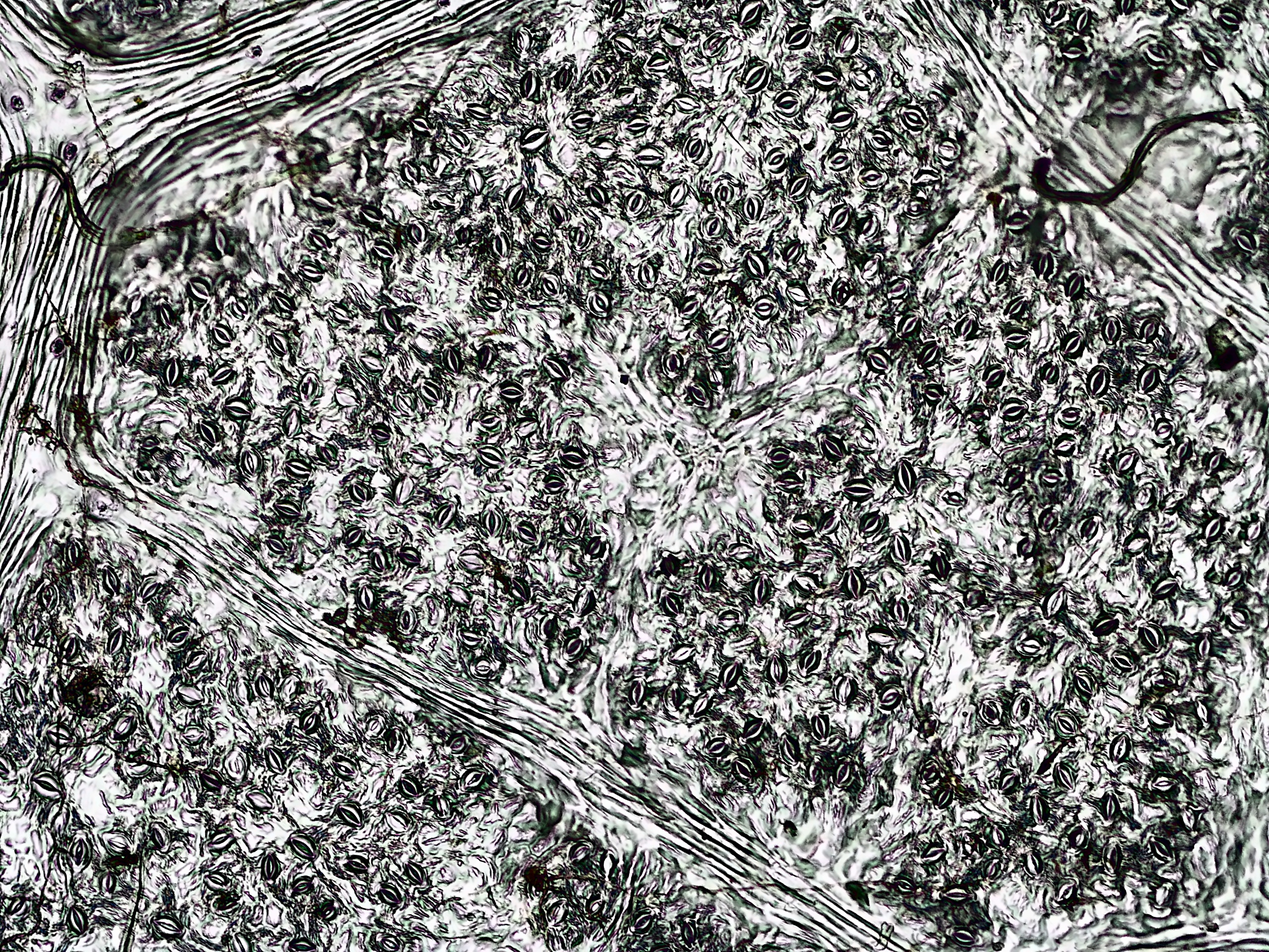stomata: (511, 121, 559, 155), (26, 575, 62, 616), (124, 0, 175, 28), (381, 470, 419, 506), (899, 100, 937, 135), (404, 207, 437, 246), (171, 640, 210, 673), (49, 630, 90, 661), (726, 538, 766, 569), (42, 717, 78, 751), (295, 365, 323, 408), (835, 752, 865, 792), (455, 540, 490, 574), (808, 501, 843, 535), (1054, 322, 1087, 358), (739, 55, 771, 92), (836, 16, 863, 59), (148, 910, 188, 939), (1039, 580, 1069, 618), (1088, 362, 1117, 401), (444, 721, 476, 756), (1095, 308, 1124, 346), (1164, 431, 1193, 469), (237, 442, 269, 476), (370, 300, 405, 331), (429, 497, 460, 532), (990, 325, 1033, 350), (93, 866, 121, 904), (873, 682, 907, 713), (113, 706, 143, 741), (59, 841, 94, 871), (1137, 617, 1167, 652), (660, 12, 689, 48), (1215, 561, 1247, 593), (687, 376, 713, 415), (804, 62, 846, 86), (574, 582, 601, 619), (329, 751, 359, 784), (541, 354, 575, 383), (893, 456, 917, 497), (1200, 508, 1228, 543), (1096, 789, 1124, 824), (662, 637, 704, 660), (786, 22, 817, 53), (1004, 290, 1035, 321), (588, 289, 619, 320), (784, 170, 816, 200), (176, 680, 206, 712), (443, 578, 473, 610), (788, 512, 818, 544), (450, 124, 478, 158), (1010, 693, 1038, 727), (389, 390, 424, 417), (1137, 354, 1161, 393), (1100, 840, 1126, 876), (1047, 708, 1077, 739), (225, 741, 248, 781), (656, 343, 683, 377), (690, 559, 717, 593), (986, 253, 1012, 288), (333, 383, 368, 409), (704, 25, 734, 55), (895, 308, 924, 339), (476, 284, 508, 312), (384, 803, 416, 831), (636, 145, 669, 172), (138, 572, 165, 605), (612, 28, 646, 54), (816, 146, 858, 167), (1044, 353, 1069, 388), (276, 493, 305, 523), (165, 614, 193, 645), (807, 712, 835, 743), (1036, 505, 1067, 533), (1141, 309, 1168, 341), (303, 224, 339, 248), (366, 235, 393, 267), (428, 794, 455, 826), (1200, 443, 1227, 475), (479, 503, 505, 536), (819, 104, 856, 127), (148, 817, 171, 854), (1108, 729, 1133, 763), (159, 353, 183, 388), (916, 340, 946, 368), (700, 211, 731, 238), (276, 406, 303, 437), (316, 438, 343, 469), (856, 165, 888, 191), (901, 190, 933, 216), (100, 563, 126, 595), (395, 603, 421, 635), (539, 265, 564, 298), (948, 921, 981, 946), (489, 230, 513, 264), (153, 300, 177, 334), (820, 433, 854, 457), (101, 627, 130, 655), (651, 549, 680, 577), (741, 714, 770, 742), (1048, 430, 1079, 456), (1027, 793, 1053, 824), (861, 122, 896, 145), (1051, 401, 1086, 424), (513, 61, 538, 93), (248, 789, 280, 814), (941, 489, 973, 514), (253, 664, 274, 702), (866, 626, 904, 647), (467, 95, 500, 119), (1051, 875, 1079, 903), (1149, 836, 1177, 864), (459, 763, 486, 792), (345, 474, 374, 501), (868, 347, 895, 376), (1115, 449, 1144, 476), (1073, 667, 1100, 696), (1147, 708, 1181, 731), (1192, 629, 1215, 663), (507, 26, 533, 56), (292, 832, 318, 862), (741, 249, 766, 280), (186, 277, 217, 302), (842, 566, 867, 597), (692, 687, 717, 718), (5, 677, 29, 709), (355, 203, 388, 226), (547, 894, 570, 927), (780, 82, 801, 118), (1001, 391, 1028, 419), (194, 417, 221, 445), (930, 547, 951, 583), (207, 322, 233, 351), (37, 776, 63, 805), (1053, 759, 1079, 788), (621, 189, 646, 219), (632, 902, 657, 932), (705, 325, 735, 350), (863, 502, 885, 536), (565, 632, 589, 663), (118, 331, 138, 368), (777, 469, 809, 492), (1123, 535, 1155, 558), (335, 801, 363, 827), (264, 741, 286, 774), (666, 680, 688, 713), (836, 672, 858, 705), (1149, 576, 1182, 598), (570, 104, 599, 129), (983, 817, 1008, 846), (643, 53, 681, 72), (1082, 510, 1101, 548), (639, 255, 659, 291), (296, 257, 326, 281), (266, 334, 296, 358), (1019, 633, 1049, 657), (739, 2, 770, 25), (355, 583, 378, 614), (777, 735, 800, 766), (802, 645, 825, 676), (422, 380, 448, 407), (566, 837, 593, 863), (493, 379, 528, 399), (511, 519, 539, 544), (893, 531, 913, 566), (721, 657, 746, 685), (194, 766, 223, 790), (748, 577, 777, 601), (270, 292, 303, 313), (979, 363, 1009, 386), (285, 453, 315, 476), (843, 477, 873, 500), (772, 649, 790, 687), (828, 273, 850, 304), (996, 467, 1027, 489), (1235, 224, 1255, 258), (453, 628, 487, 648), (209, 358, 236, 383), (560, 443, 587, 468), (471, 340, 499, 364), (475, 445, 507, 466), (1149, 414, 1173, 442), (830, 203, 853, 232), (914, 165, 943, 188), (181, 725, 210, 748), (1144, 38, 1166, 68), (696, 252, 726, 274), (10, 891, 30, 924), (387, 723, 407, 756), (259, 849, 279, 882), (1016, 530, 1038, 560), (983, 696, 1003, 729), (1148, 772, 1181, 792), (683, 915, 704, 946), (998, 767, 1024, 792), (396, 545, 423, 569), (920, 840, 947, 864), (672, 89, 700, 112), (1065, 42, 1088, 70), (330, 304, 358, 327), (65, 538, 88, 566), (280, 673, 300, 705), (501, 182, 523, 211), (1000, 206, 1029, 228), (1023, 847, 1044, 877), (1062, 824, 1092, 845), (512, 416, 545, 435), (569, 226, 595, 250), (470, 656, 497, 679), (788, 606, 816, 628), (211, 829, 240, 850), (401, 154, 420, 186), (447, 343, 467, 373), (1221, 2, 1244, 28), (912, 758, 938, 781), (103, 831, 130, 853), (698, 736, 725, 758), (808, 759, 830, 786), (1065, 271, 1084, 302), (1245, 510, 1264, 541), (513, 263, 534, 291), (225, 397, 253, 418), (553, 515, 581, 536), (865, 252, 885, 281), (476, 413, 505, 433), (404, 444, 433, 464), (936, 781, 956, 810), (891, 275, 915, 299), (667, 180, 690, 205), (783, 238, 806, 263), (786, 284, 811, 307), (894, 870, 917, 895), (933, 135, 955, 161), (943, 886, 973, 905), (361, 710, 382, 737), (508, 572, 529, 599), (204, 875, 239, 891), (400, 771, 420, 799), (289, 876, 320, 894), (734, 755, 752, 786), (716, 178, 739, 202), (979, 857, 1003, 880), (594, 140, 623, 159), (745, 191, 764, 220), (1108, 652, 1137, 671), (893, 593, 910, 625), (749, 298, 776, 318), (528, 232, 555, 252), (231, 673, 249, 703), (1204, 42, 1223, 70), (799, 568, 818, 596), (1090, 616, 1118, 635), (584, 182, 608, 204), (658, 592, 682, 614), (627, 684, 649, 708), (357, 354, 388, 371), (376, 935, 407, 952), (590, 63, 611, 88), (586, 536, 611, 557), (406, 108, 428, 131), (463, 170, 484, 194), (541, 610, 557, 641), (1038, 467, 1064, 486), (71, 907, 88, 936), (343, 523, 364, 546), (923, 383, 946, 404), (226, 298, 246, 322), (351, 853, 375, 873), (774, 440, 794, 464), (853, 68, 871, 94), (291, 934, 317, 952), (139, 429, 161, 450), (585, 900, 606, 922), (609, 0, 632, 20), (546, 202, 566, 225), (368, 426, 391, 446), (686, 138, 705, 162), (541, 475, 565, 494), (764, 147, 789, 165), (1038, 250, 1054, 278), (227, 930, 255, 946), (1044, 2, 1065, 23), (677, 295, 698, 316), (863, 212, 881, 236), (618, 83, 641, 101), (960, 316, 978, 339), (267, 534, 285, 557), (626, 116, 655, 130), (587, 260, 613, 275), (307, 703, 320, 733), (1139, 479, 1151, 511), (371, 547, 385, 574), (399, 866, 424, 881), (380, 882, 402, 899), (721, 608, 737, 630), (557, 63, 571, 88), (317, 899, 337, 916), (1080, 13, 1095, 30), (1170, 0, 1193, 11), (1114, 4, 1138, 11)
